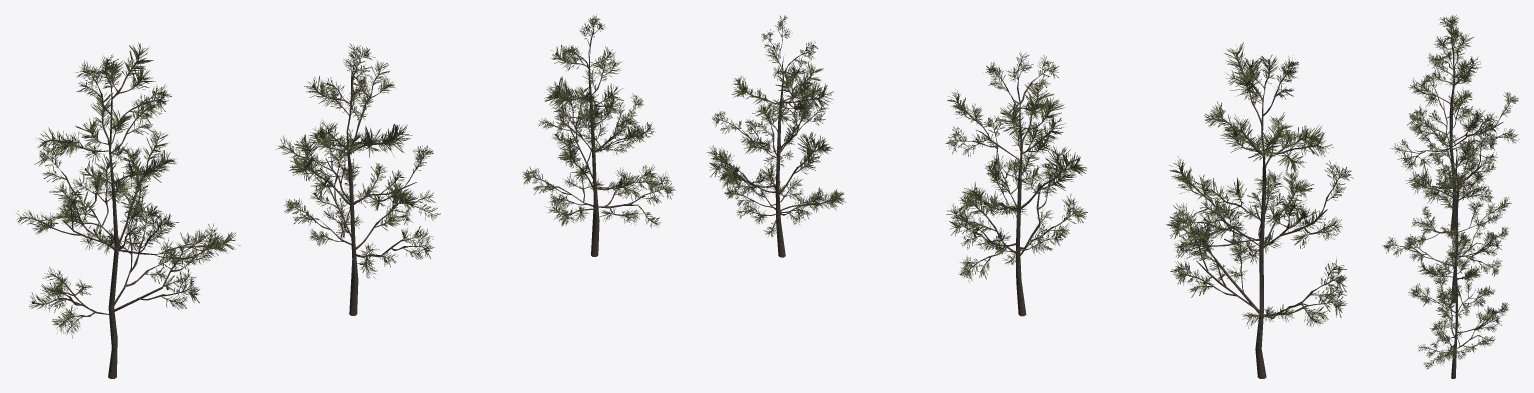
Rendered from pine-dc3f1cf97eaa.glb.
3 renders of one model, left to right at view 1: azimuth 30°, elevation 25°; view 2: azimuth 150°, elevation 25°; view 3: azimuth 270°, elevation 25°, orthographic. The views are drawn at different scales.
Visible parts, largest first — view 1: pine_sapling_small_a, pine_sapling_small_b, pine_sapling_small_c; view 2: pine_sapling_small_a, pine_sapling_small_b, pine_sapling_small_c; view 3: pine_sapling_small_a, pine_sapling_small_b, pine_sapling_small_c.
Part boxes in pixels (x1,y1,x2,y2): pine_sapling_small_a: (16,42,240,378); pine_sapling_small_b: (275,43,440,315); pine_sapling_small_c: (522,14,675,256); pine_sapling_small_a: (1166,42,1353,378); pine_sapling_small_b: (945,51,1087,316); pine_sapling_small_c: (707,15,846,257); pine_sapling_small_a: (1390,15,1519,230); pine_sapling_small_b: (1382,133,1511,303); pine_sapling_small_c: (1408,223,1509,378).
Bounding box in the file's own units: 2.64 × 1.3 × 0.7703.
2 materials, 2 textured.
